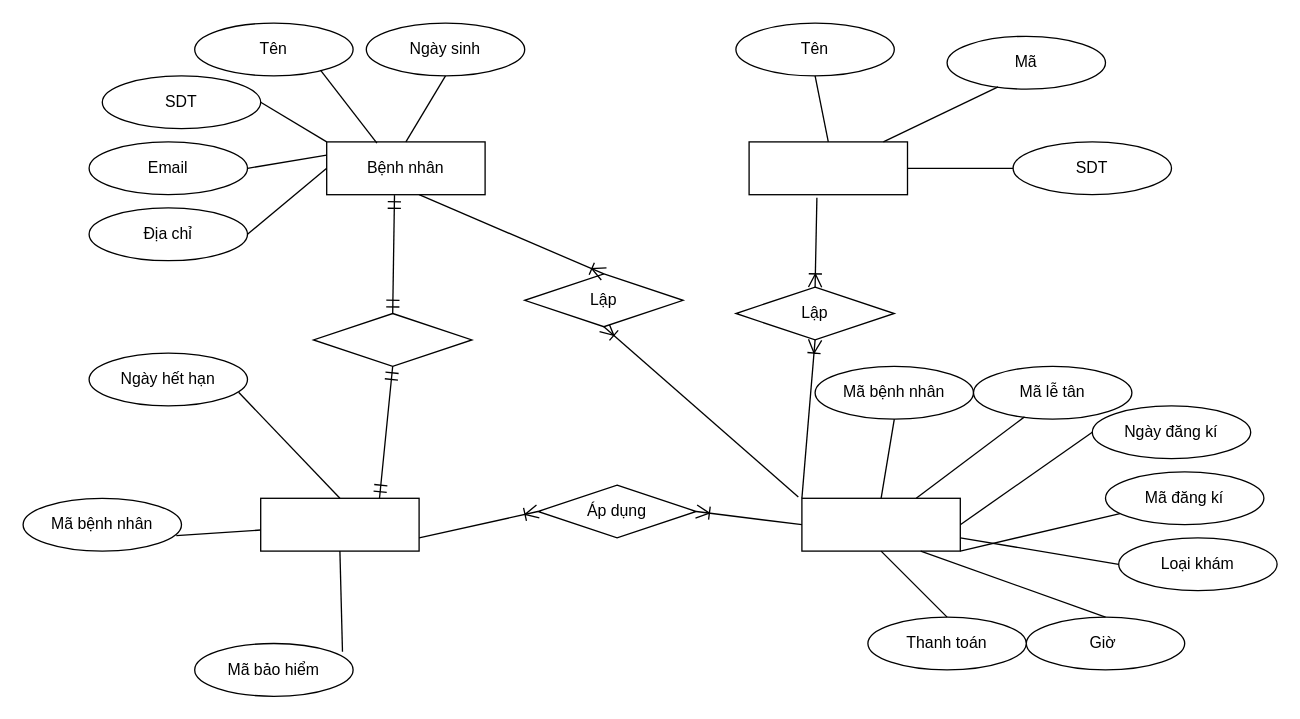
This 1300x719 diagram has some shape labels left out. The shapes that lost their labels are listed below. From the top down, each one's box as (x1, y1, x2, y2) in pixels, then its label:
(748, 141, 908, 195): Lễ tân
(312, 312, 472, 366): Sử dụng
(259, 497, 419, 551): Bảo hiểm
(801, 497, 960, 551): Đăng kí khám
